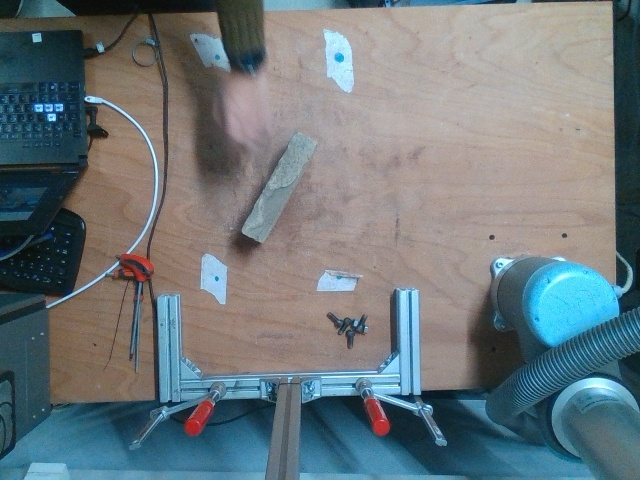brick-side: (242, 134, 315, 240)
